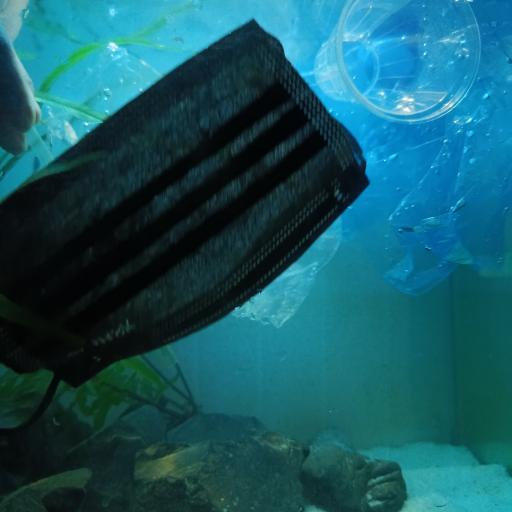mask: (0, 20, 368, 432)
plastic_bag: (45, 39, 336, 323), (334, 0, 512, 298)
plastic_cup: (314, 0, 480, 124)
plastic_straw: (22, 128, 50, 164)
